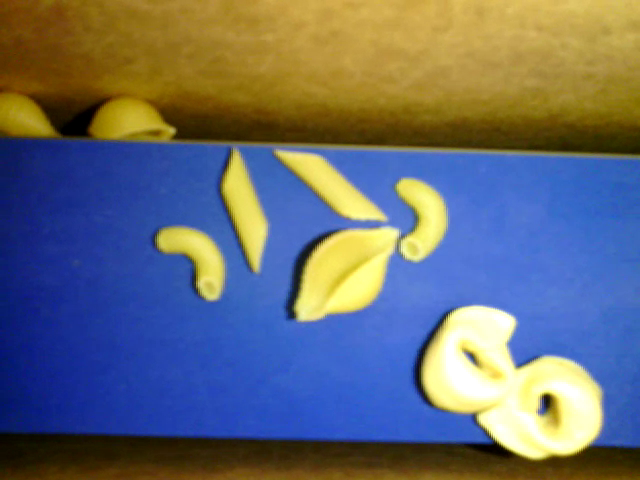elbow: (154, 228, 224, 298), (395, 174, 446, 261)
penne: (271, 147, 388, 224), (217, 141, 270, 271)
shell: (293, 225, 399, 325), (87, 92, 173, 145), (1, 92, 75, 142)
tortellini: (475, 352, 606, 459), (415, 302, 520, 416)
